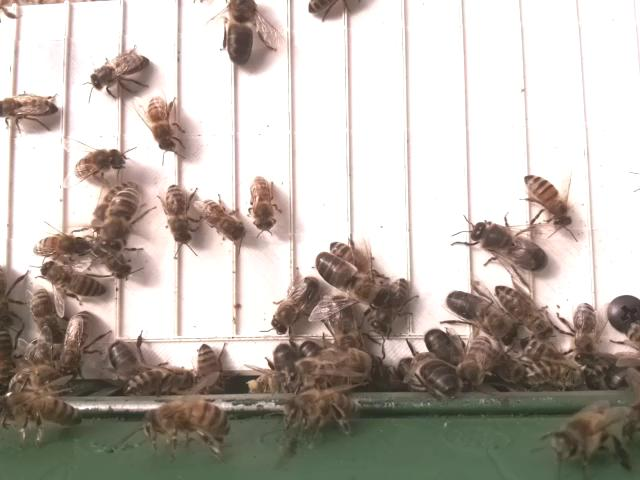Drone: (467, 218, 550, 278), (312, 248, 384, 307), (442, 285, 515, 342), (220, 0, 260, 70), (422, 325, 468, 373)
Worker: (494, 279, 552, 339), (519, 169, 574, 231), (270, 271, 321, 337), (37, 259, 110, 303), (98, 183, 140, 258), (85, 49, 152, 91), (197, 198, 250, 247), (374, 274, 413, 340), (61, 306, 93, 380), (70, 146, 130, 185), (162, 180, 196, 248), (142, 93, 179, 155), (28, 286, 65, 347), (0, 90, 62, 126), (570, 295, 601, 367), (29, 230, 104, 259), (248, 171, 279, 240)
